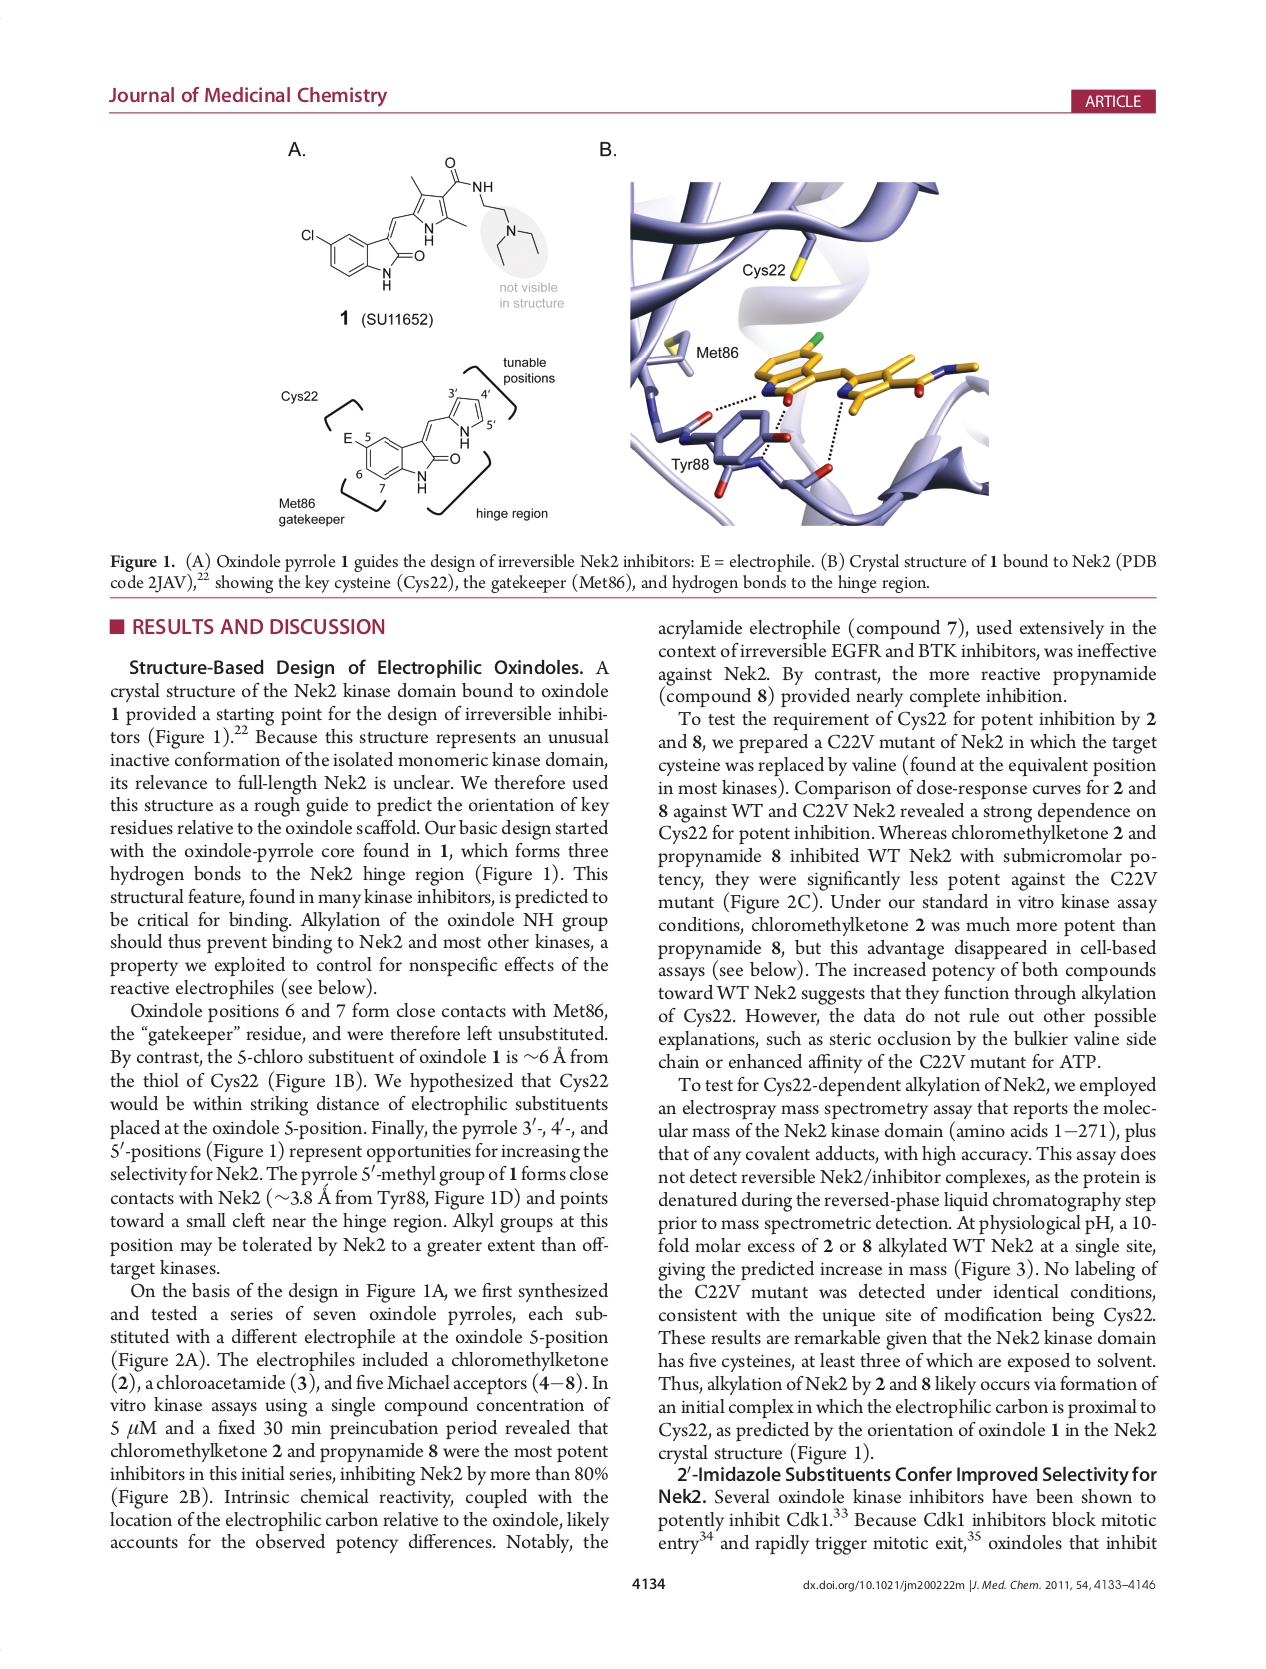exist_molecular: (298, 154, 541, 294), (340, 394, 487, 493)
